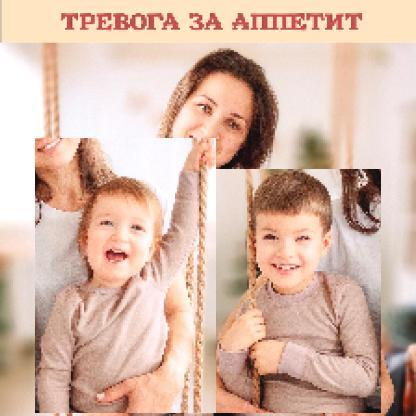child: (37, 139, 219, 415), (217, 170, 384, 415)
